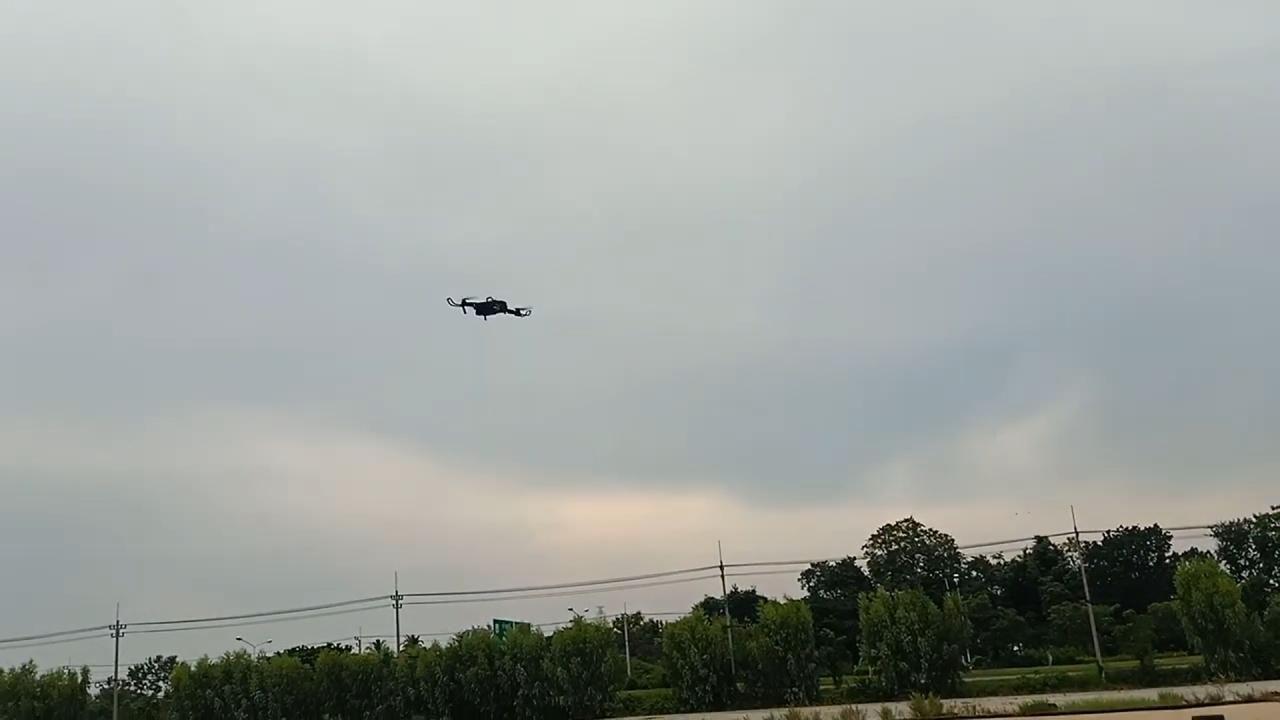Drone: (436, 287, 536, 325)
